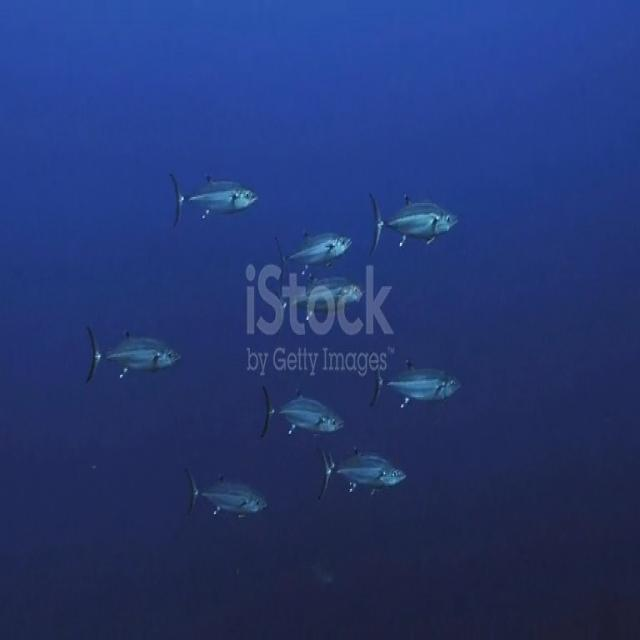fish: (360, 188, 464, 256), (370, 346, 465, 416), (88, 319, 184, 386), (316, 440, 412, 500), (260, 376, 344, 443), (170, 162, 255, 225), (276, 213, 353, 276), (188, 464, 266, 526), (280, 275, 366, 315)
